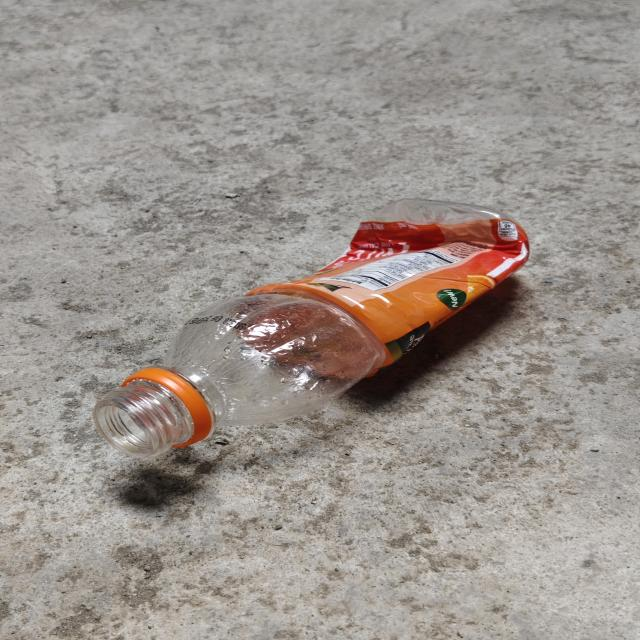Bottle: (94, 199, 529, 458)
